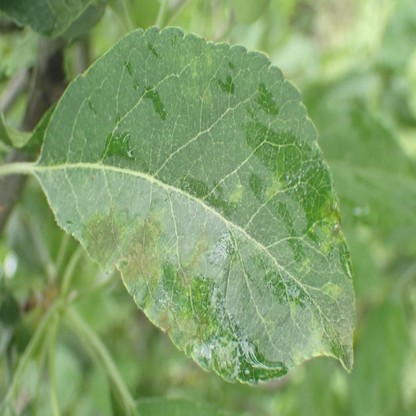scab: (119, 209, 167, 308), (80, 206, 124, 275), (179, 225, 213, 290), (179, 47, 213, 107), (294, 321, 335, 361), (321, 195, 342, 252), (196, 317, 216, 341), (157, 310, 174, 336), (323, 282, 341, 302), (265, 178, 281, 199), (182, 318, 198, 336), (229, 184, 243, 201), (230, 251, 241, 270), (297, 259, 312, 272), (290, 299, 296, 317)
